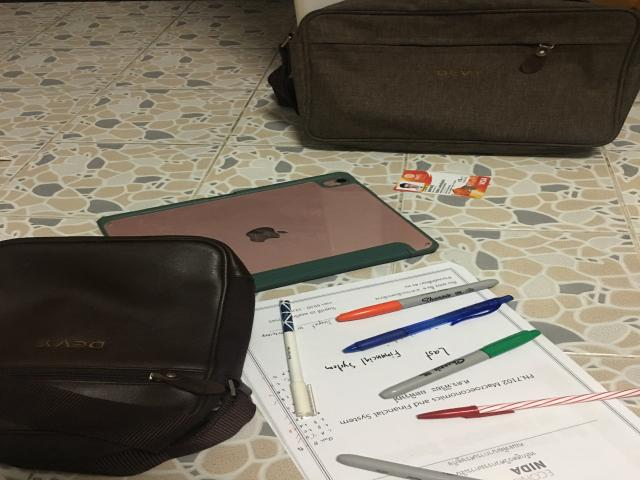Pen: (380, 330, 540, 398), (343, 296, 512, 352), (335, 279, 497, 322), (417, 389, 640, 419), (280, 300, 318, 417), (337, 455, 478, 480)
paper: (243, 262, 638, 480)
